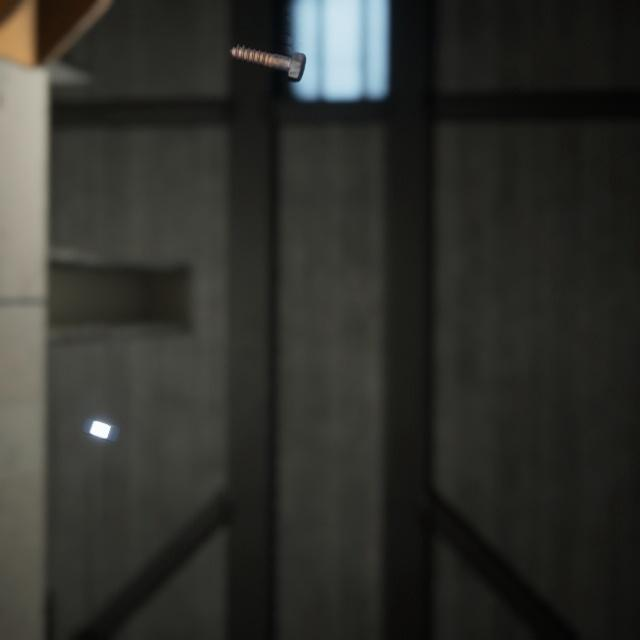bolt: (224, 30, 310, 76)
nut: (77, 393, 124, 426)
